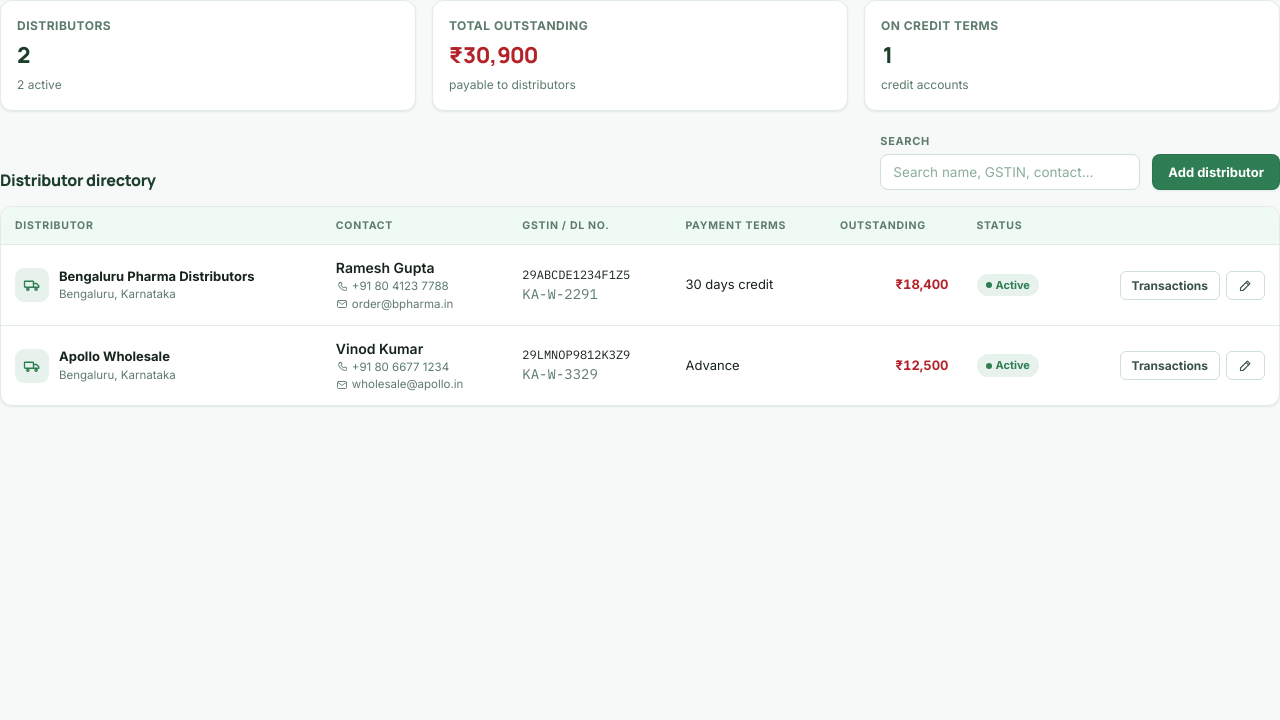
DistributorsPage › opens Add distributor with the form sections and a disabled save
The image size is (1280, 720).
Expected: the text "Bengaluru Pharma Distributors" is shown, [59,267,254,286]
Click the button "Add distributor" at (1216, 172), box [1152,154,1279,190]
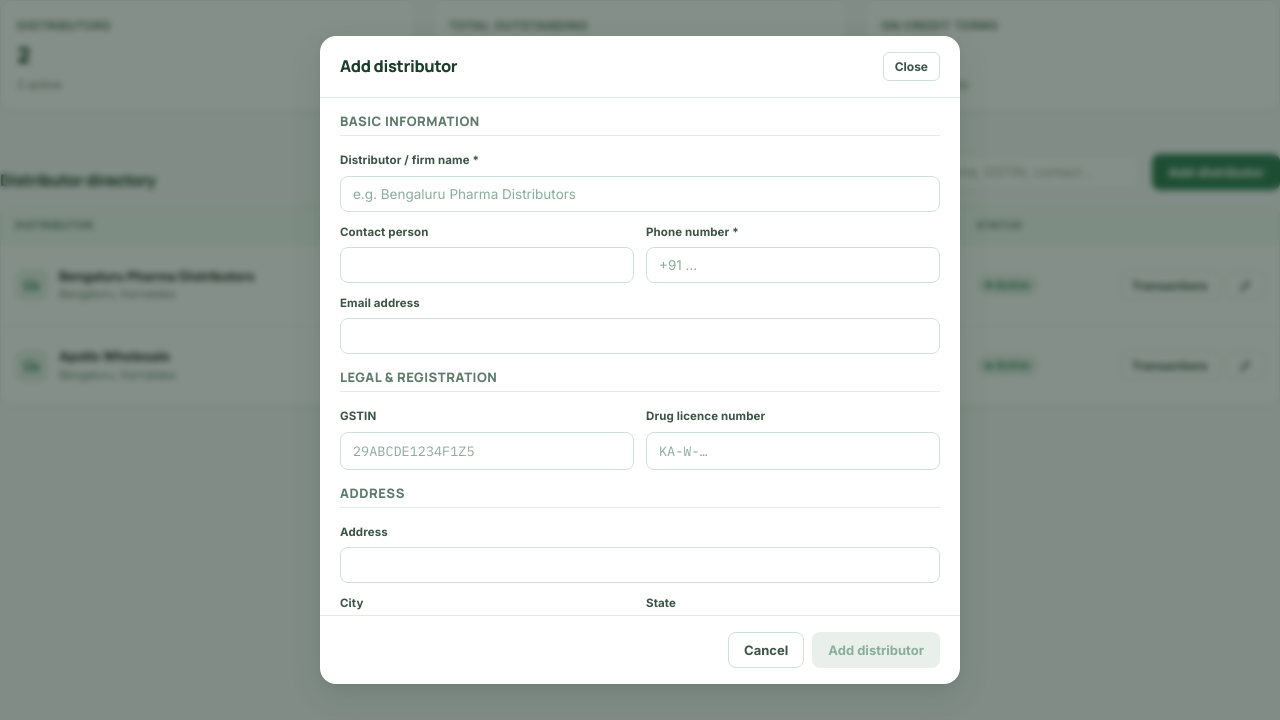
Now the button "Add distributor" is disabled, box [812,632,940,668]
